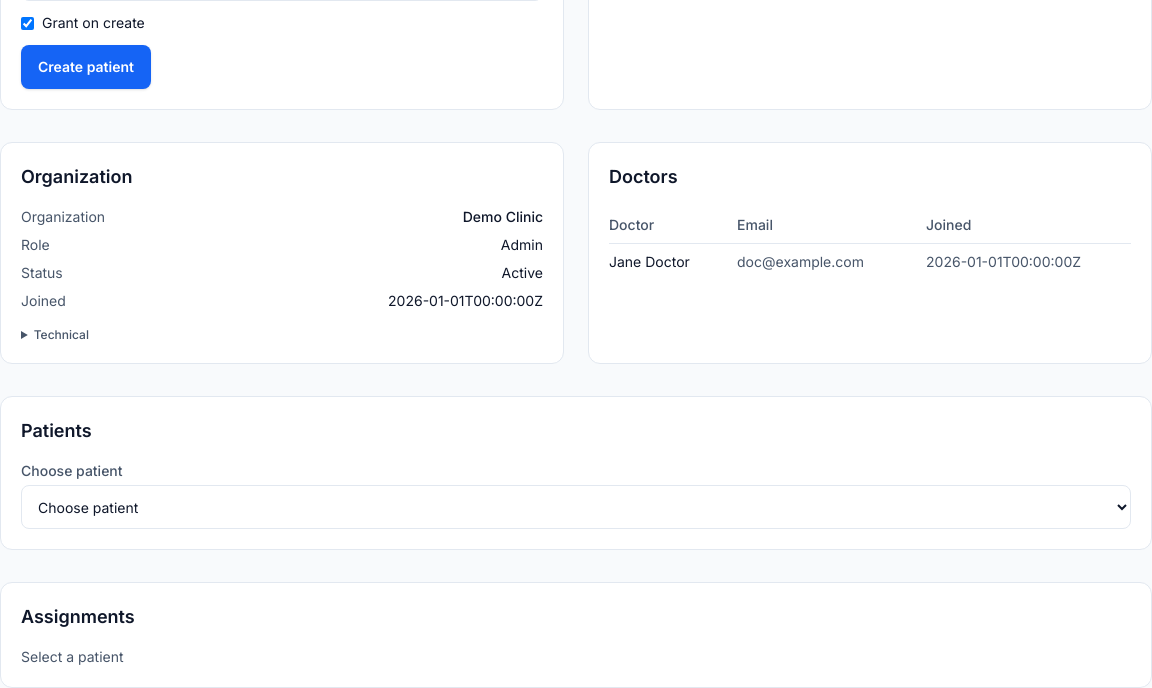
Test case: ManagementPageContent › deactivates active assignment, refetches, and removes row from current assignments
This screenshot has width=1152, height=688.
(page scrolled)
Select "Ada Lovelace (1990-01-01)" in the dropdown labelled "Choose patient" at (576, 507), box [21,485,1131,529]
(page scrolled)
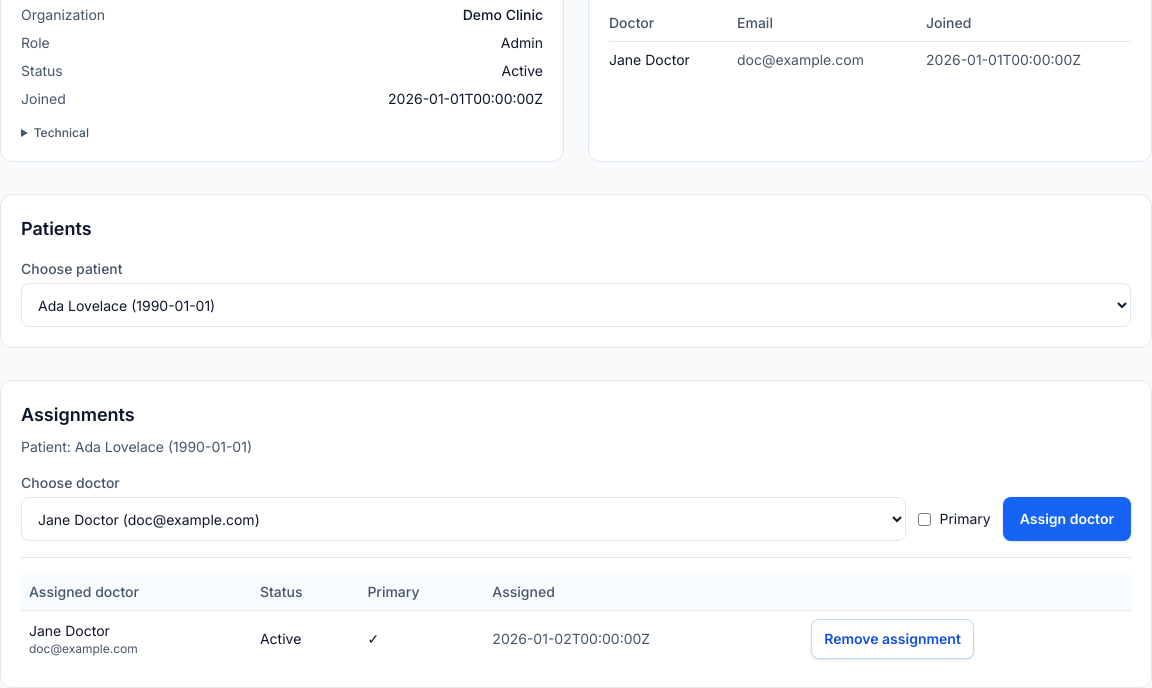
Expected: the button "Remove assignment" is shown
Click the button "Remove assignment" at (893, 639), box [811,619,974,659]
(page scrolled)
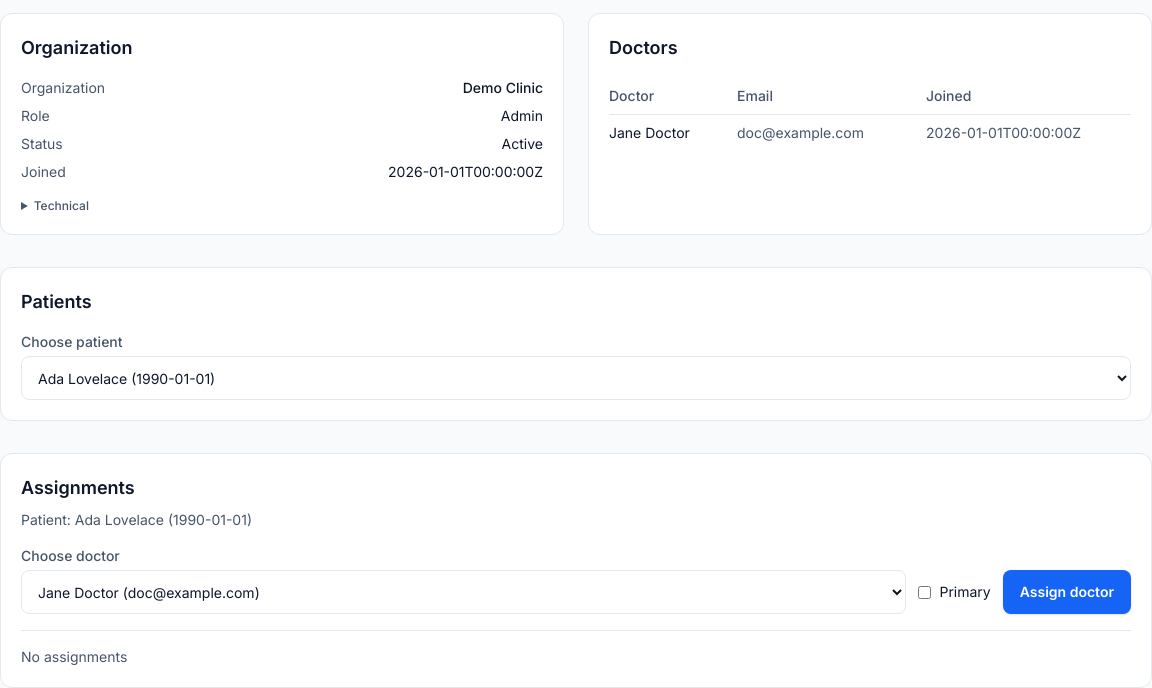
Expected: the button "Remove assignment" is gone
Expected: the text "No assignments" is shown, [21,648,127,665]
